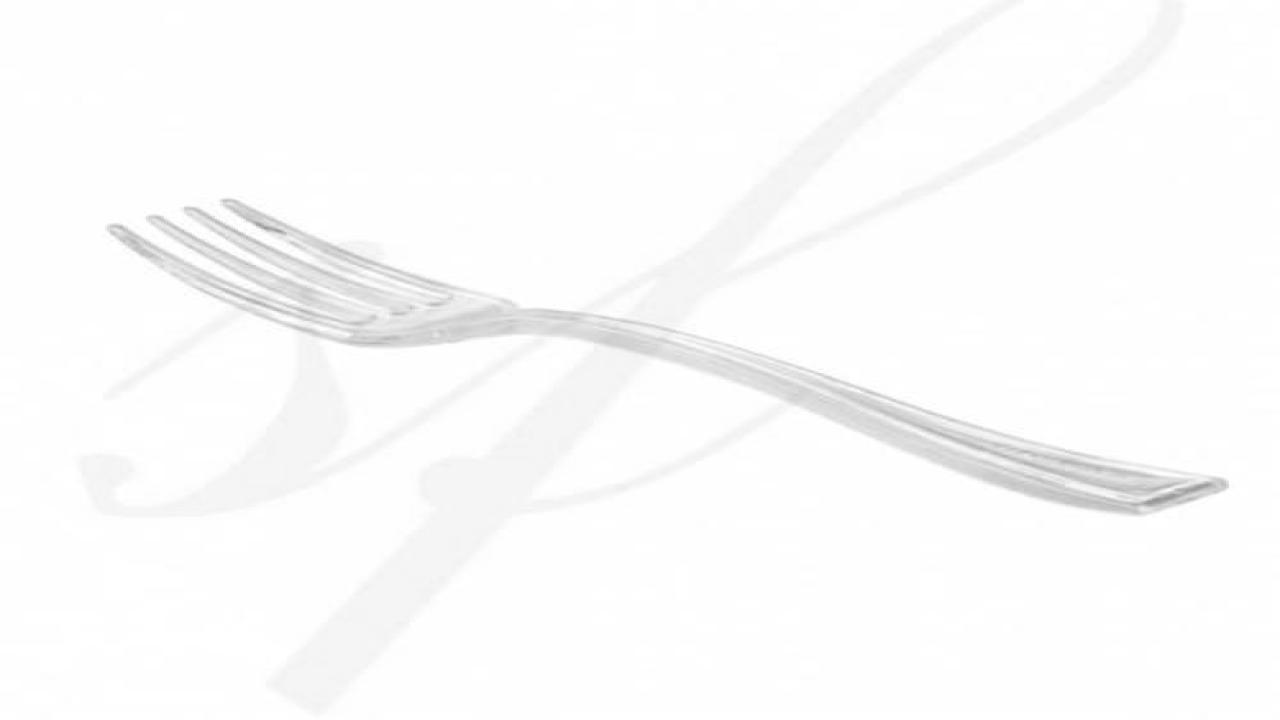fork: (102, 196, 1229, 517)
